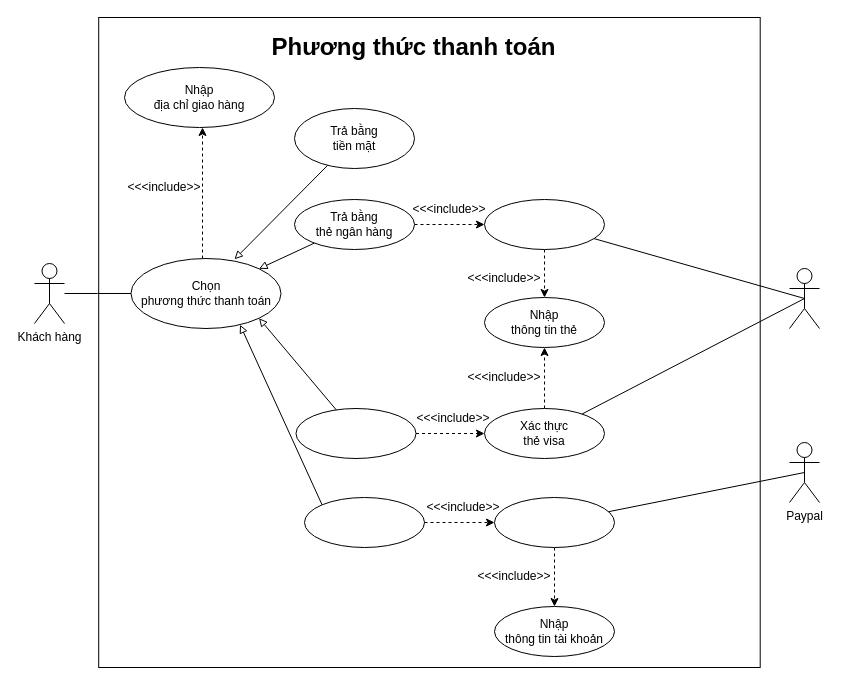
Image size: 851x685. Some labels were removed from this diagram. Each missing label, with the centre of its shape:
"Ngân hàng" belongs at (x=804, y=298).
"Trả bằng paypal" belongs at (x=364, y=522).
"Trả bằng visa" belongs at (x=355, y=433).
"Xác thực thẻ ATM" belongs at (x=544, y=224).
"Xác thực tài khoản paypal" belongs at (x=554, y=522).
